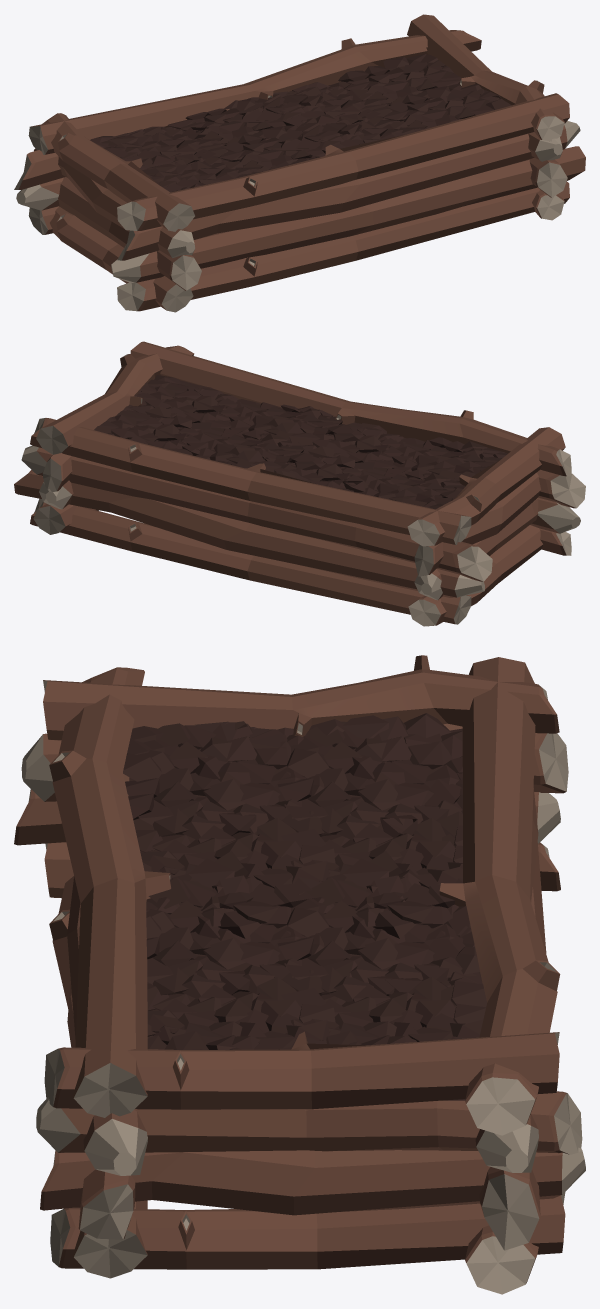
File: Wood Plant Pot.fbx
3 views of the same model, one above another, from view 1: azimuth 30°, elevation 25°; view 2: azimuth 150°, elevation 25°; view 3: azimuth 270°, elevation 25° (orthographic). The views are drawn at different scales.
Visible parts, largest first — view 1: Dirt, Plant Pot Part 16, Plant Pot Part 14, Plant Pot Part 13, Plant Pot Part 15, Plant Pot Part 08, Plant Pot Part 04, Plant Pot Part 12, Plant Pot Part 01, Plant Pot Part 02, Plant Pot Part 03, Plant Pot Part 07 (+5 smaller); view 2: Dirt, Plant Pot Part 08, Plant Pot Part 06, Plant Pot Part 07, Plant Pot Part 05, Plant Pot Part 16, Plant Pot Part 04, Plant Pot Part 12, Plant Pot Part 01, Plant Pot Part 03, Plant Pot Part 02, Plant Pot Part 15 (+5 smaller); view 3: Dirt, Plant Pot Part 16, Plant Pot Part 08, Plant Pot Part 12, Plant Pot Part 10, Plant Pot Part 09, Plant Pot Part 11, Plant Pot Part 04, Plant Pot Part 15, Plant Pot Part 06, Plant Pot Part 13, Plant Pot Part 03 (+5 smaller).
Part boxes in pixels (x1,y1,x2,y2): Dirt: (90, 54, 511, 192); Plant Pot Part 16: (117, 93, 569, 230); Plant Pot Part 14: (111, 146, 585, 282); Plant Pot Part 13: (117, 181, 569, 311); Plant Pot Part 15: (117, 121, 580, 260); Plant Pot Part 08: (28, 30, 481, 154); Plant Pot Part 04: (42, 113, 194, 231); Plant Pot Part 12: (407, 14, 564, 141); Plant Pot Part 01: (50, 206, 193, 312); Plant Pot Part 02: (58, 177, 201, 290); Plant Pot Part 03: (34, 148, 195, 257); Plant Pot Part 07: (14, 150, 65, 189); Dirt: (94, 375, 507, 509); Plant Pot Part 08: (30, 418, 471, 544); Plant Pot Part 06: (14, 470, 484, 597); Plant Pot Part 07: (21, 445, 492, 581); Plant Pot Part 05: (30, 498, 471, 624); Plant Pot Part 16: (130, 341, 571, 476); Plant Pot Part 04: (407, 427, 565, 546); Plant Pot Part 12: (36, 345, 194, 454); Plant Pot Part 01: (408, 525, 543, 626); Plant Pot Part 03: (414, 472, 540, 576); Plant Pot Part 02: (414, 497, 539, 600); Plant Pot Part 15: (537, 469, 585, 508); Dirt: (123, 713, 486, 1100); Plant Pot Part 16: (49, 667, 170, 1117); Plant Pot Part 08: (439, 657, 560, 1135); Plant Pot Part 12: (44, 1031, 559, 1109); Plant Pot Part 10: (40, 1147, 585, 1215); Plant Pot Part 09: (50, 1192, 565, 1269); Plant Pot Part 11: (36, 1091, 582, 1154); Plant Pot Part 04: (43, 655, 559, 740); Plant Pot Part 15: (67, 774, 147, 1175); Plant Pot Part 06: (479, 842, 546, 1250); Plant Pot Part 13: (49, 876, 147, 1278); Plant Pot Part 03: (21, 723, 568, 801).
Size of the model in its own units: 2.11 by 0.5235 by 1.12.
